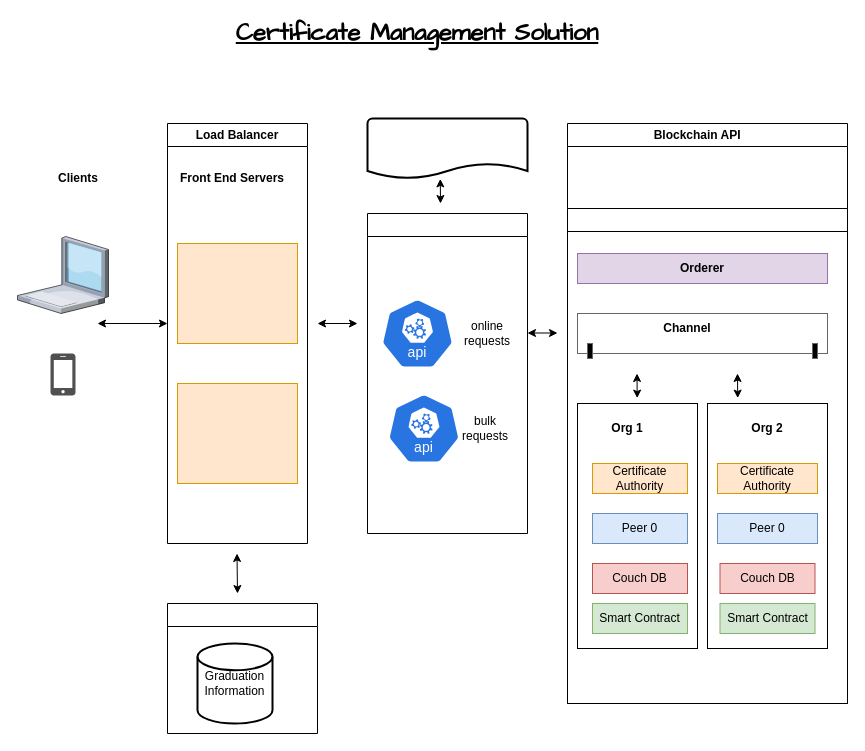
This 865x751 diagram has some shape labels left out. The box of each missing label's shape, as (x1, y1, x2, y2) in pixels:
Application API: (366, 212, 528, 534)
Blockchain Network: (566, 208, 848, 704)
Cerfificate Management Portal (Admin Portal): (176, 242, 298, 344)
Secure Certificate Storage: (366, 117, 528, 179)
Student Portal: (176, 382, 298, 484)
UNISA SIS: (166, 602, 318, 734)
